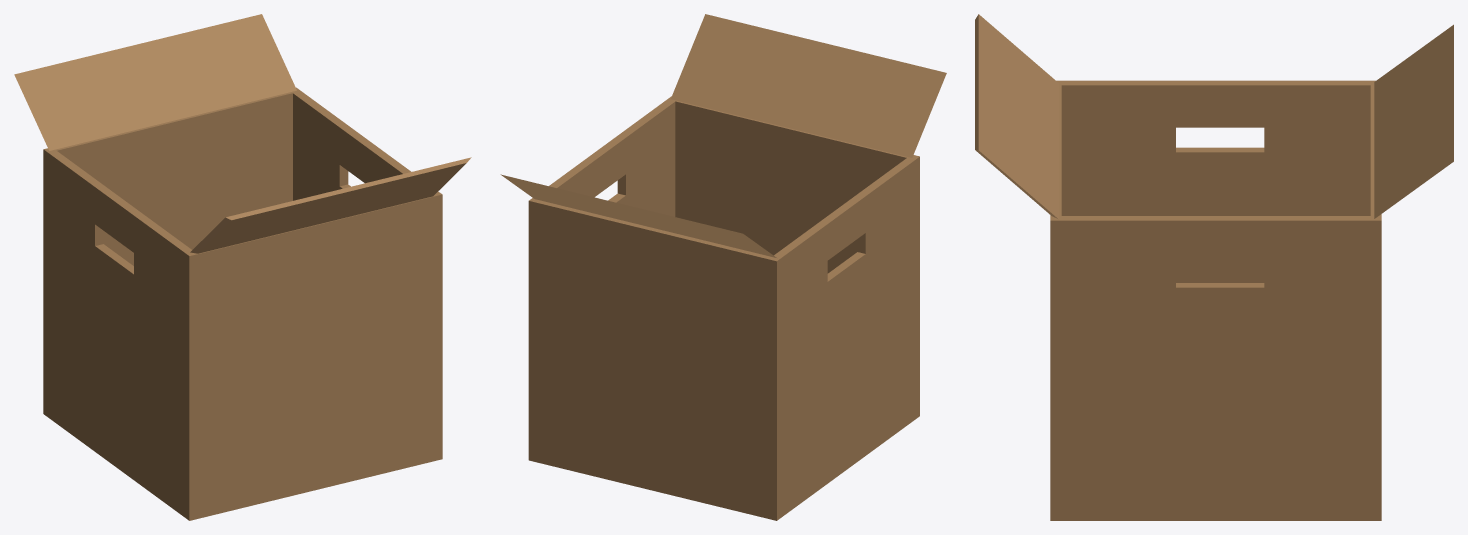
File: FlyttekasseMedFlap.fbx
3 views of the same model, side by side, from view 1: azimuth 30°, elevation 25°; view 2: azimuth 150°, elevation 25°; view 3: azimuth 270°, elevation 25° (orthographic). The views are drawn at different scales.
Parts seen in each view (by area): view 1: FlyttekasseMFlapper; view 2: FlyttekasseMFlapper; view 3: FlyttekasseMFlapper.
Boxes of the visible parts, x1,y1,x2,y2 form: FlyttekasseMFlapper: (14, 14, 471, 520); FlyttekasseMFlapper: (500, 14, 946, 520); FlyttekasseMFlapper: (975, 14, 1453, 520).
Size of the model in its own units: 354 by 435 by 512.
